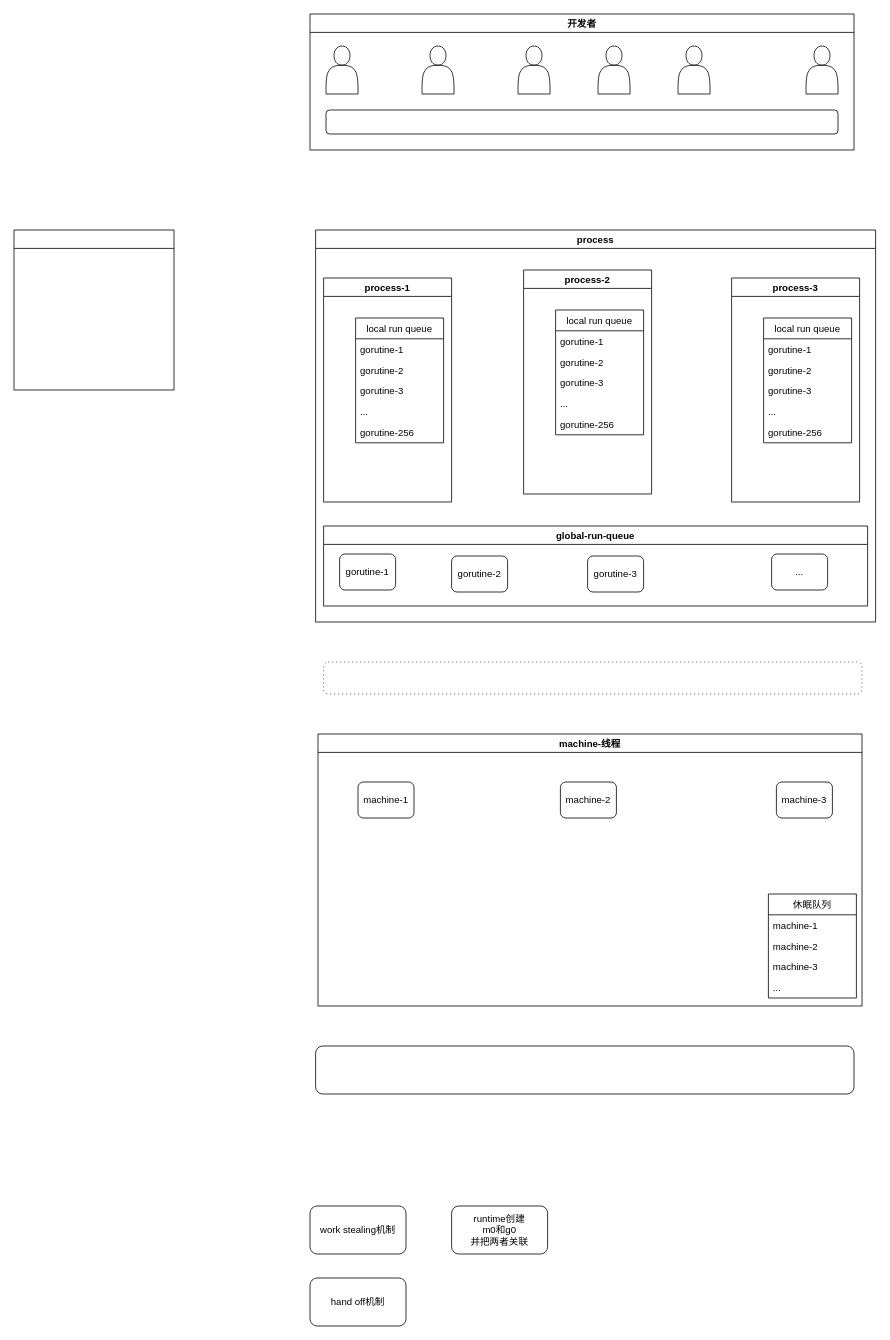
Image size: 890x1340. Some labels were removed from this diagram. The shapes that lost their labels are listed below. From the top down, each one's centre as x and y in pixels, then its label:
At (581,121): "创建协程".
At (93,309): "go run main.go".
At (592,677): "prcoess虚拟绑定machine 1v1".
At (584,1069): "OS".
